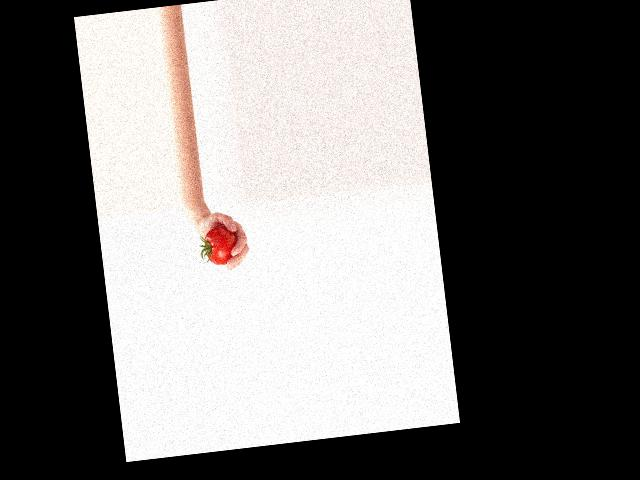tomato: (202, 225, 239, 266)
